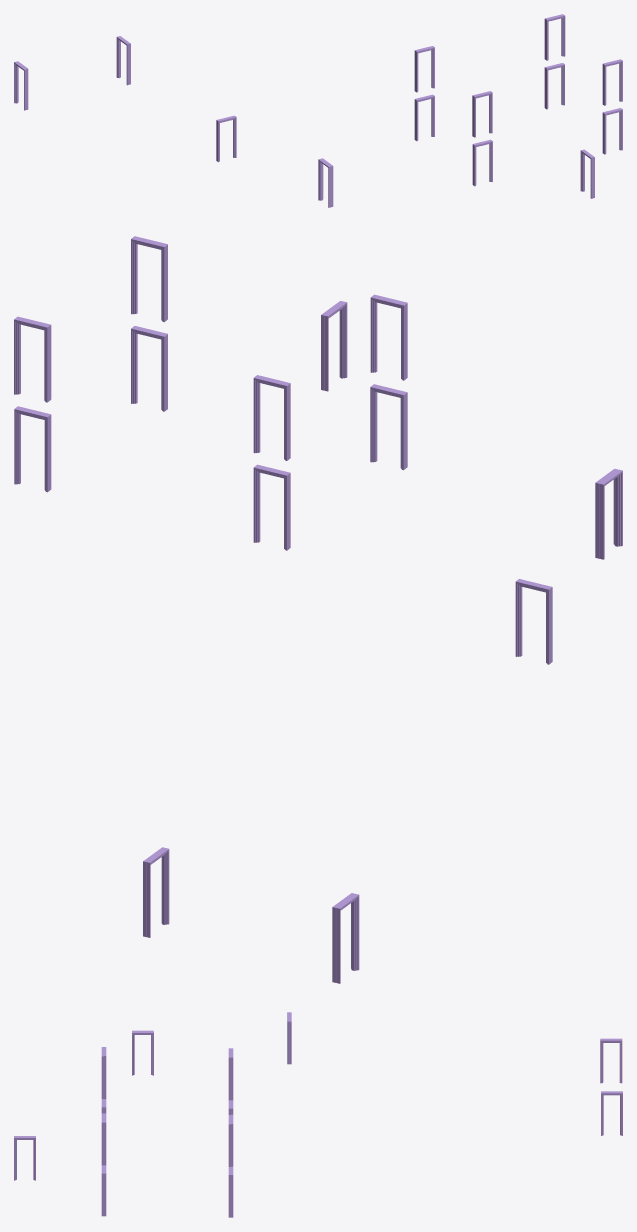
File: Door-Base.fbx
The picture shows the model from 3 angles, top to bottom: view 1: azimuth 30°, elevation 25°; view 2: azimuth 150°, elevation 25°; view 3: azimuth 270°, elevation 25°; orthographic projection. The views are drawn at different scales.
Visible parts, largest first — view 1: Door-Base; view 2: Door-Base; view 3: Door-Base.
Part boxes in pixels (bbox=[...]): Door-Base: bbox=[14, 14, 622, 207]; Door-Base: bbox=[14, 236, 622, 983]; Door-Base: bbox=[14, 1012, 622, 1217].
Bounding box in the file's own units: 13433 × 4821 × 18639.
